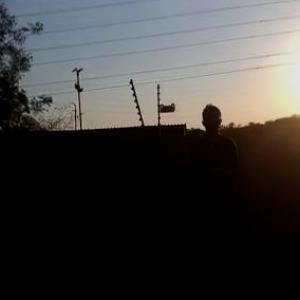follow: (183, 99, 243, 284)
